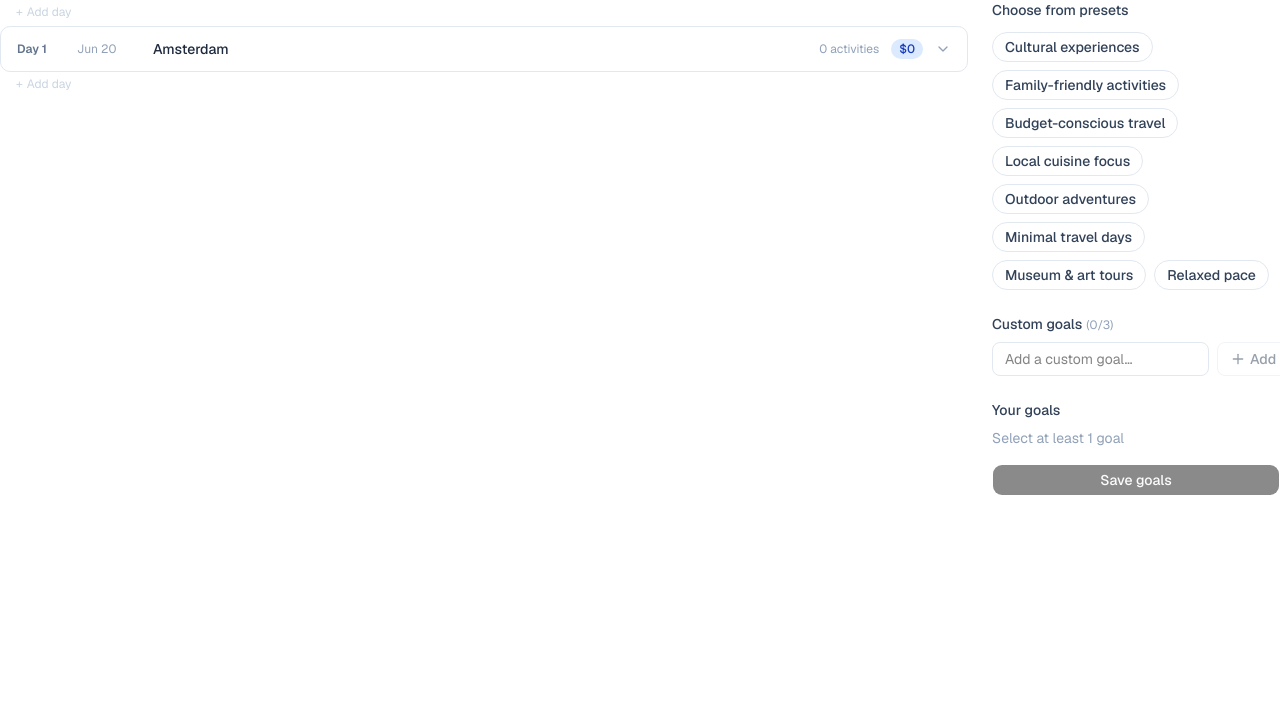
Test: undo after last-day removal restores day and clears empty state
This screenshot has width=1280, height=720.
Click the text "Amsterdam": (191, 49) [153,40,229,58]
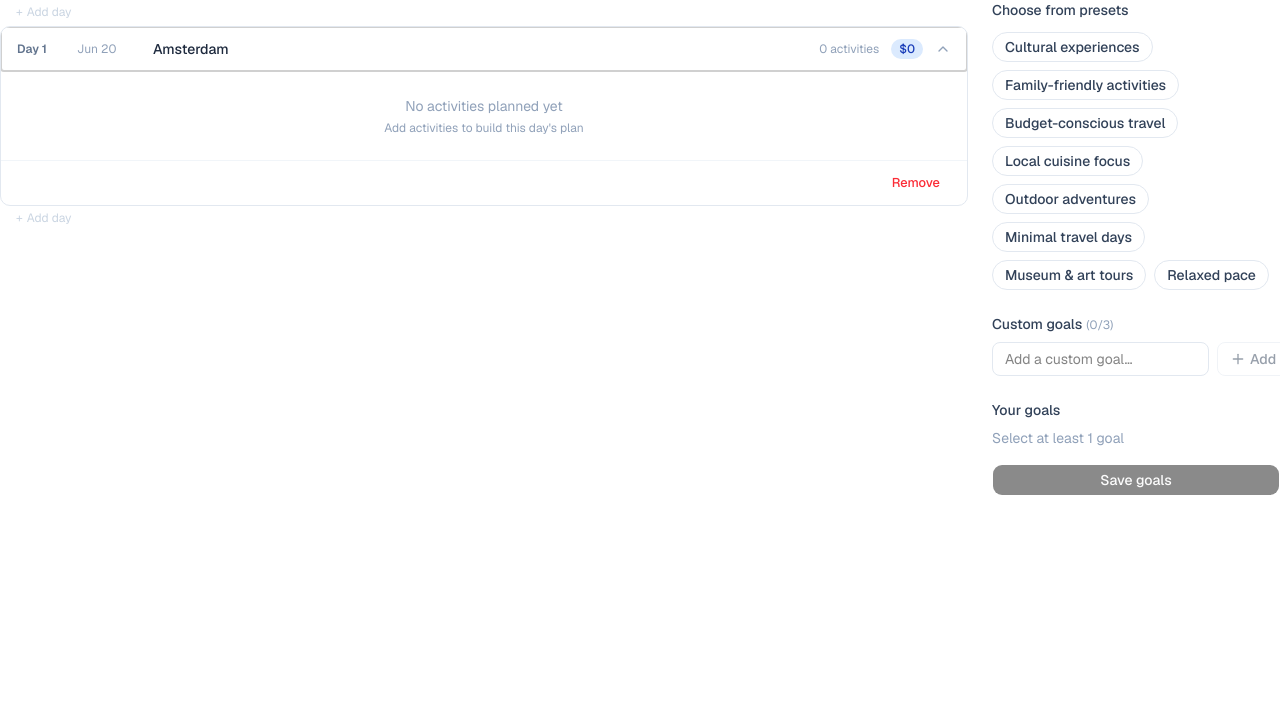
Click the button "Remove": (916, 183) [881,169,951,197]
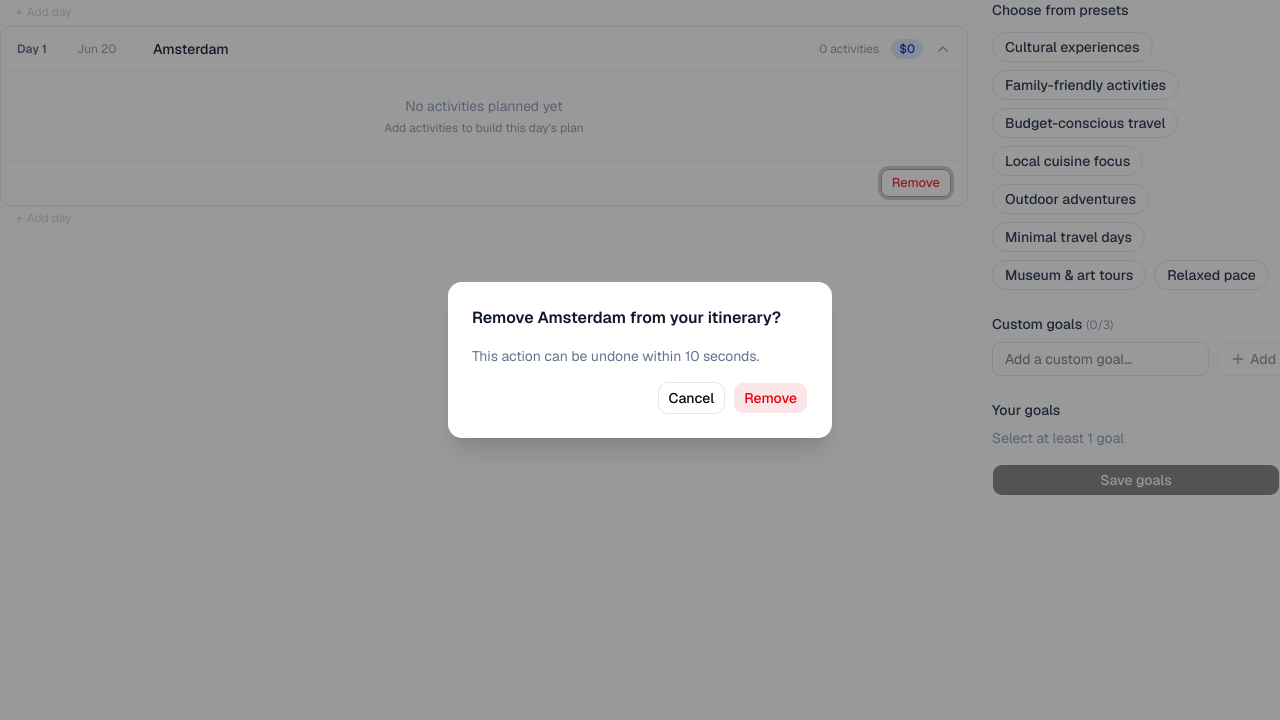
Click the button "Remove": (771, 398) [733,382,808,414]
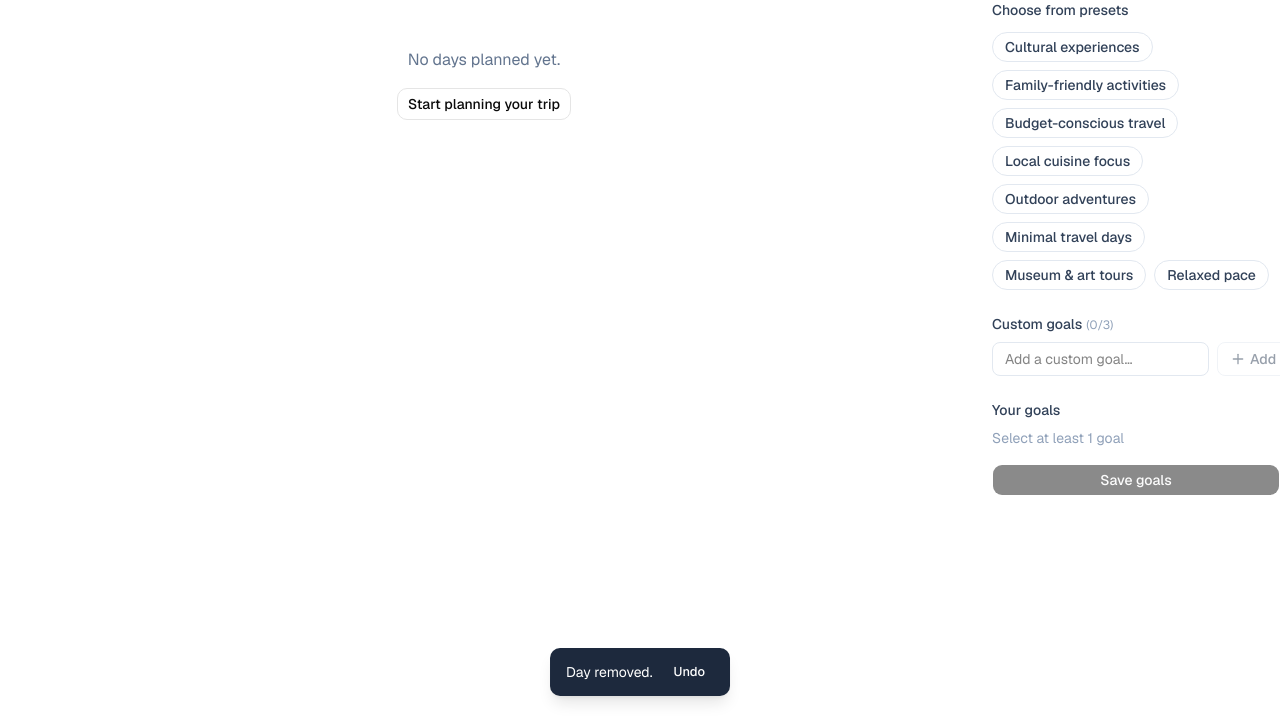
Expected: the text "No days planned yet." is shown, [408,49,560,70]
Click the button "Undo": (689, 672) [664,660,714,684]
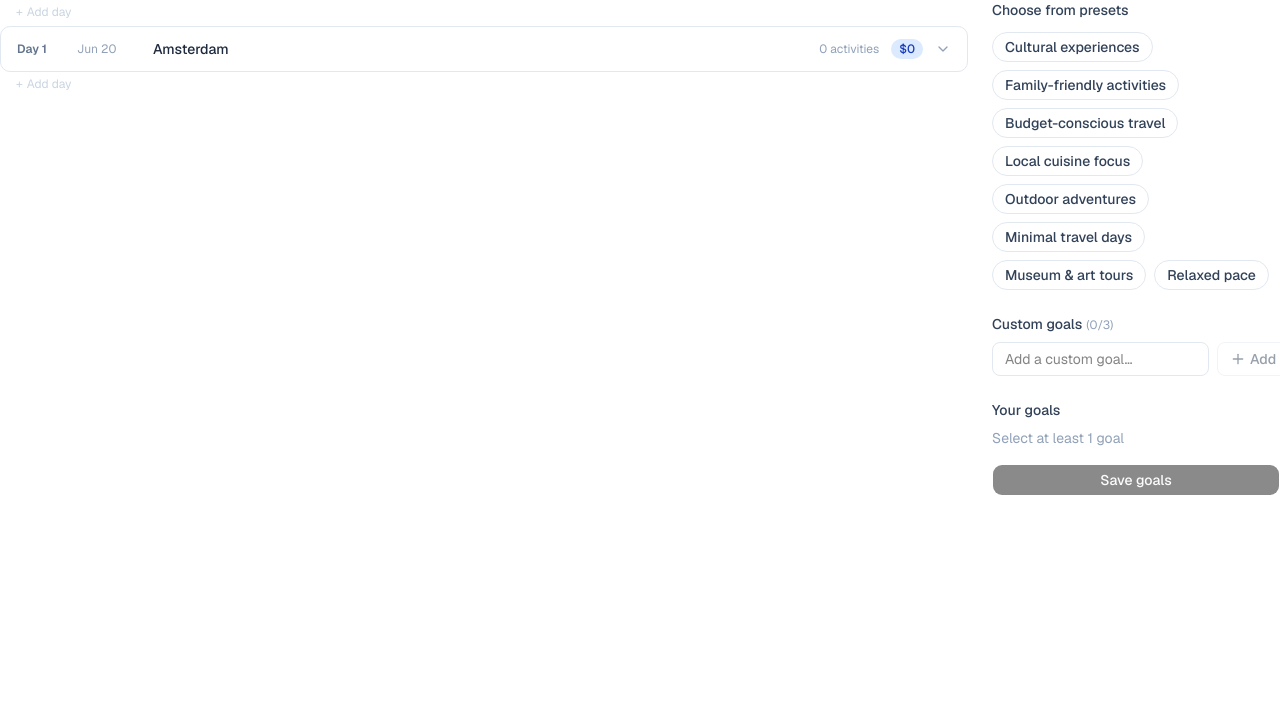
Expected: the text "Amsterdam" is shown, [153,40,229,58]
Expected: the text "No days planned yet" is gone
